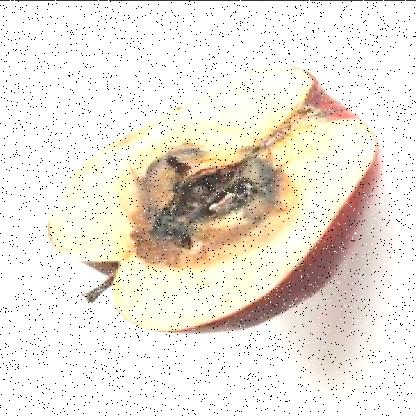damaged_apple: (43, 59, 397, 337)
